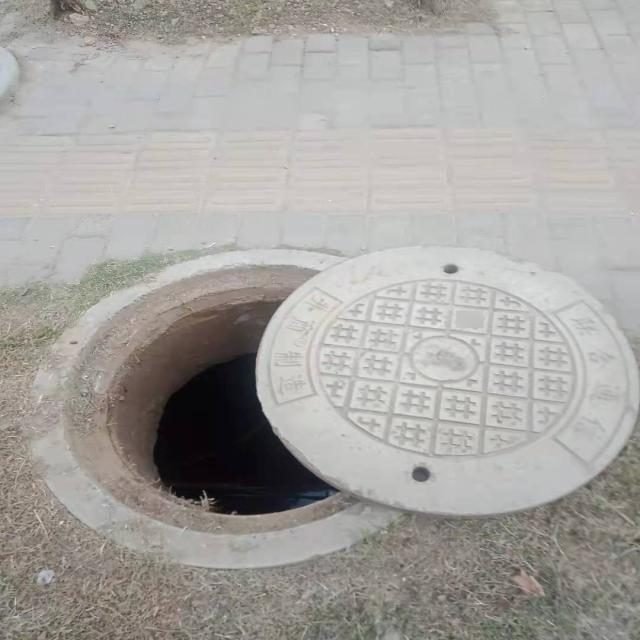Lose: (28, 246, 637, 568)
